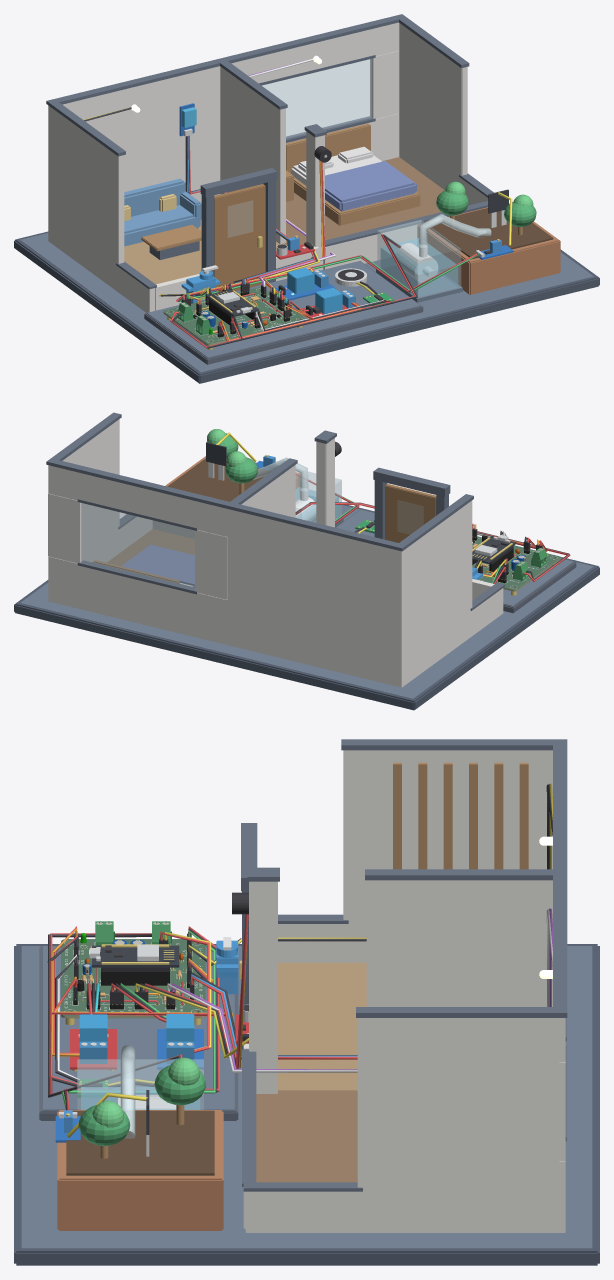
Rendered from smarthome_villa.glb.
The picture shows the model from 3 angles, top to bottom: view 1: azimuth 30°, elevation 25°; view 2: azimuth 150°, elevation 25°; view 3: azimuth 270°, elevation 25°; orthographic projection. The views are drawn at different scales.
Parts seen in each view (by area): view 1: BackWallLiving, LeftWallBack, RightWallBack, TabletopPlinth, PlinthTrim, MidWallBack, BedWindowGlass, main_door_leaf, TechBayTrim, WaterTankGlass, GardenPlanterWalls, BackWallBedTop (+41 smaller); view 2: BackWallLiving, LeftWallBack, BackWallBedBot, TabletopPlinth, PlinthTrim, BedWindowGlass, BackWallBedTop, RightWallBack, BackWallCap, main_door_leaf, BackWallBedPillarR, BackWallBedPillarL (+24 smaller); view 3: RightWallBack, PlinthTrim, MidWallBack, LeftWallBack, TabletopPlinth, GardenPlanterWalls, LivingRoomFloor, BedroomFloor, GardenSoilBed, TechBayTrim, MidWallFrontPillar, RightWallFrontLow (+36 smaller).
Boxes of the visible parts, left/top/right/bottom form: BackWallLiving: left=48, top=66, right=220, bottom=242; LeftWallBack: left=50, top=108, right=124, bottom=291; RightWallBack: left=399, top=23, right=467, bottom=189; TabletopPlinth: left=14, top=231, right=599, bottom=383; PlinthTrim: left=20, top=233, right=593, bottom=372; MidWallBack: left=220, top=66, right=285, bottom=244; BedWindowGlass: left=262, top=59, right=371, bottom=138; main_door_leaf: left=214, top=184, right=265, bottom=291; TechBayTrim: left=147, top=261, right=420, bottom=357; WaterTankGlass: left=377, top=220, right=461, bottom=297; GardenPlanterWalls: left=417, top=203, right=560, bottom=294; BackWallBedTop: left=231, top=22, right=399, bottom=83; BackWallLiving: left=227, top=509, right=403, bottom=687; LeftWallBack: left=403, top=500, right=472, bottom=685; BackWallBedBot: left=48, top=556, right=227, bottom=644; TabletopPlinth: left=14, top=505, right=599, bottom=710; PlinthTrim: left=20, top=505, right=593, bottom=698; BedWindowGlass: left=81, top=503, right=194, bottom=589; BackWallBedTop: left=48, top=465, right=227, bottom=536; RightWallBack: left=62, top=419, right=119, bottom=562; BackWallCap: left=46, top=458, right=406, bottom=551; main_door_leaf: left=385, top=484, right=436, bottom=542; BackWallBedPillarR: left=48, top=493, right=83, bottom=563; BackWallBedPillarL: left=195, top=530, right=227, bottom=599; RightWallBack: left=357, top=1018, right=559, bottom=1232; PlinthTrim: left=21, top=946, right=592, bottom=1248; MidWallBack: left=366, top=880, right=552, bottom=1006; LeftWallBack: left=343, top=750, right=552, bottom=962; TabletopPlinth: left=14, top=944, right=599, bottom=1265; GardenPlanterWalls: left=57, top=1110, right=223, bottom=1230; LivingRoomFloor: left=278, top=962, right=366, bottom=1090; BedroomFloor: left=256, top=1090, right=357, bottom=1182; GardenSoilBed: left=66, top=1110, right=214, bottom=1175; TechBayTrim: left=43, top=946, right=234, bottom=1110; MidWallFrontPillar: left=249, top=881, right=277, bottom=1093; RightWallFrontLow: left=245, top=1191, right=360, bottom=1232.
Size of the model in its own units: 10.1 by 3.6 by 8.1.
